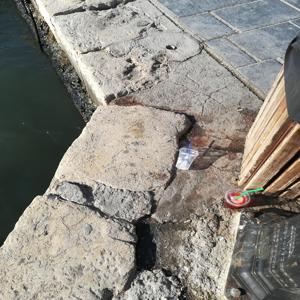plastic: (172, 138, 206, 187), (218, 180, 260, 211)
